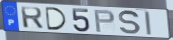5: (70, 7, 91, 33)
D: (44, 6, 69, 31)
I: (143, 11, 153, 36)
P: (93, 9, 116, 33)
R: (19, 6, 45, 30)
S: (118, 10, 142, 36)
